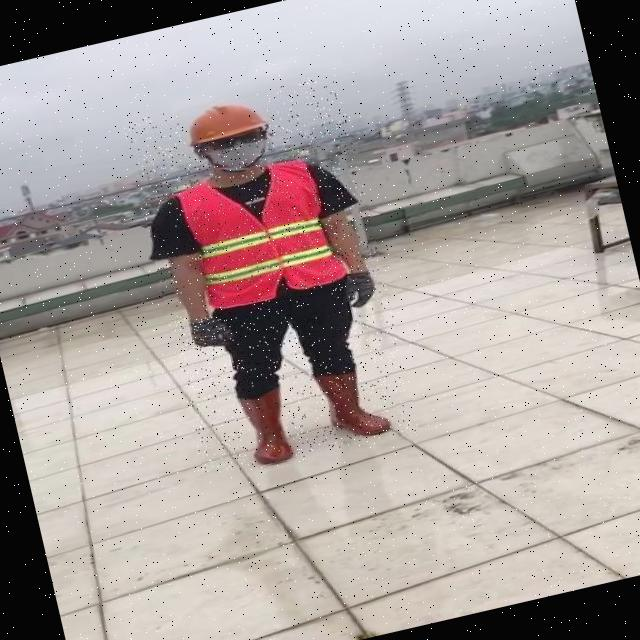boots: (310, 358, 400, 446), (232, 382, 296, 468)
helmet: (178, 94, 270, 148)
vest: (171, 156, 344, 315)
